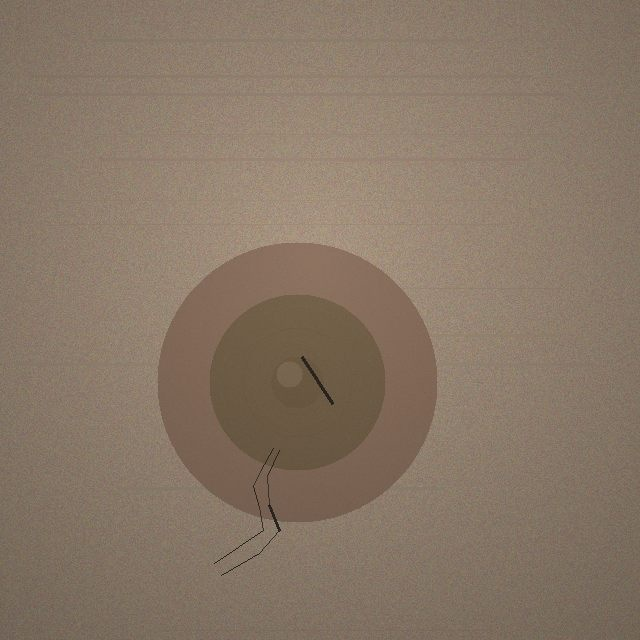crack: (157, 242, 437, 522)
